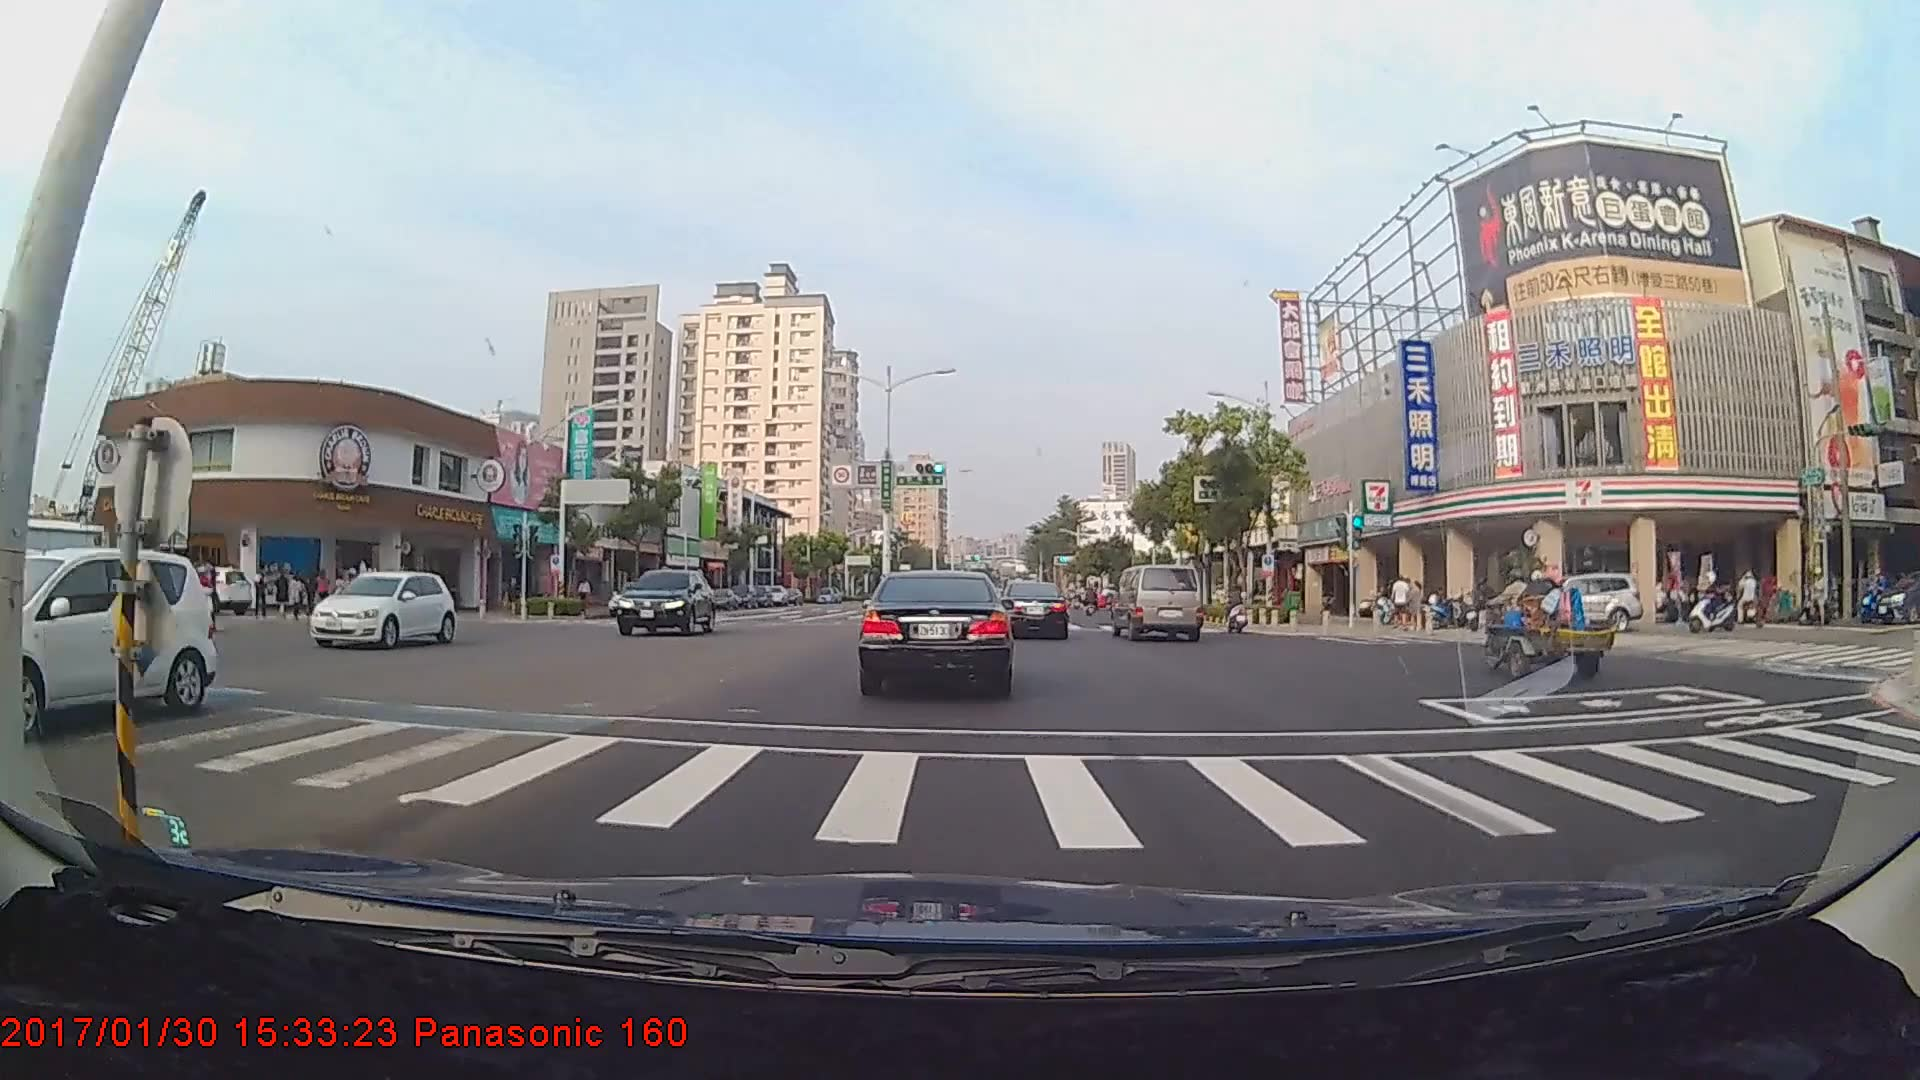pedestrian: (1390, 573, 1411, 630)
rider: (1684, 568, 1748, 639), (1216, 582, 1256, 637)
vehicle: (0, 545, 213, 724), (859, 563, 1013, 697), (309, 569, 455, 648), (1485, 574, 1638, 635), (1112, 563, 1202, 643), (613, 568, 715, 636), (998, 580, 1069, 640)
